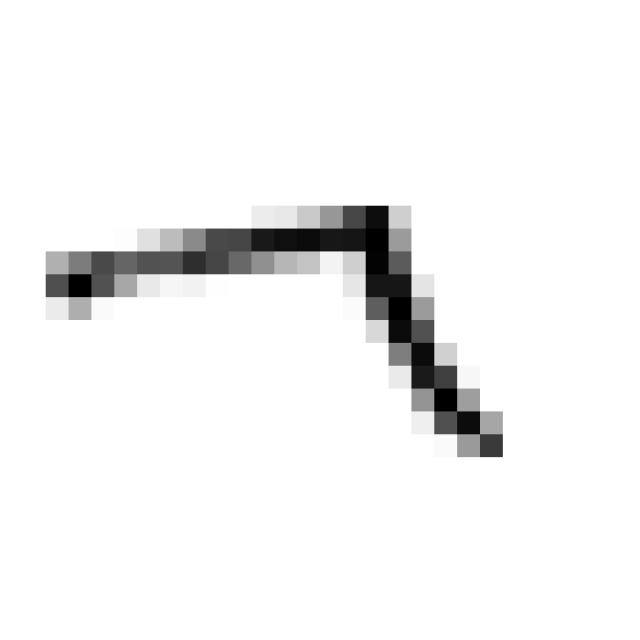6 -six-: (23, 188, 517, 478)
